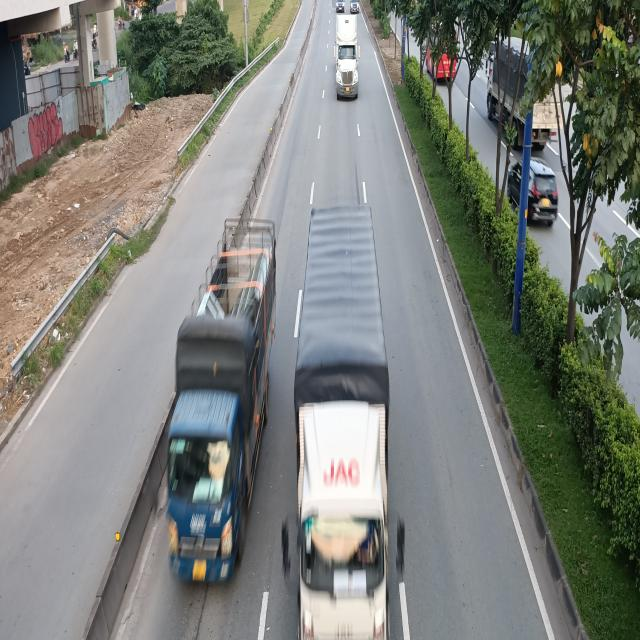car: (351, 0, 360, 14)
container: (334, 14, 360, 100)
truck: (286, 202, 406, 640), (157, 219, 279, 588)
